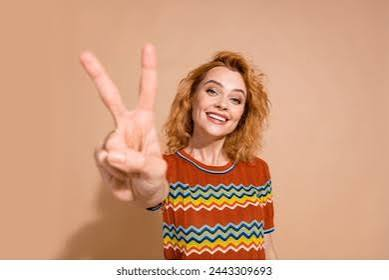peace_sign: (77, 41, 174, 202)
